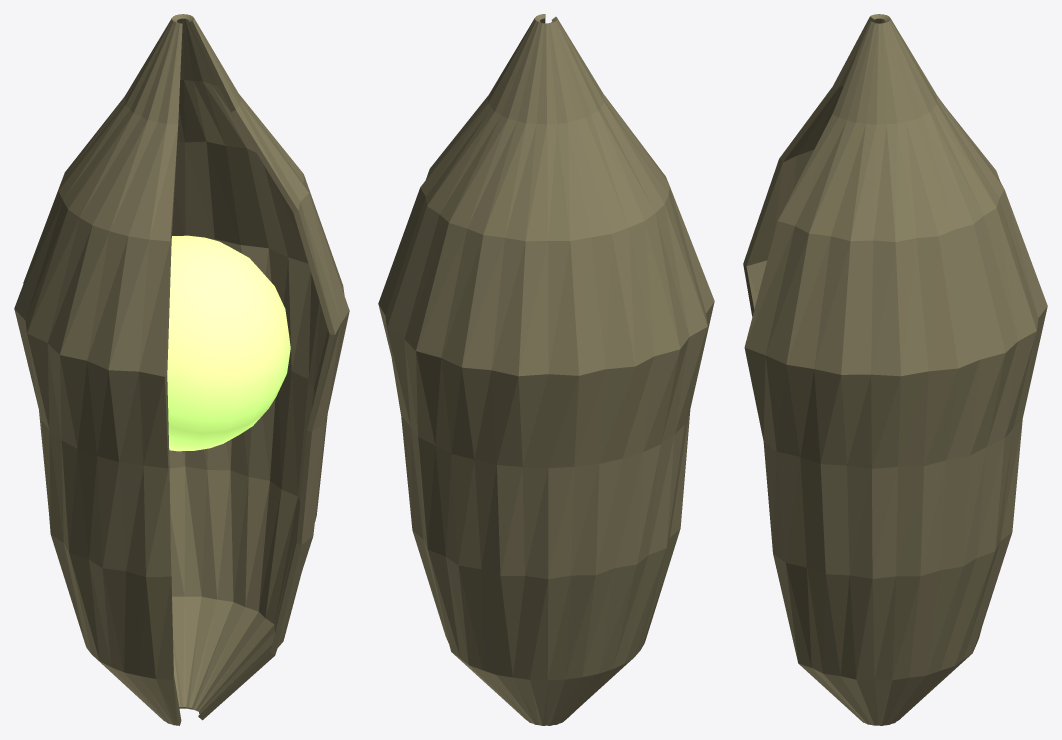
The model's file is sprite_guardian_refined.glb.
The picture shows the model from 3 angles, left to right: view 1: azimuth 30°, elevation 25°; view 2: azimuth 150°, elevation 25°; view 3: azimuth 270°, elevation 25°; orthographic projection.
Parts seen in each view (by area): view 1: Leaf_Envelope, Sprite_Core; view 2: Leaf_Envelope; view 3: Leaf_Envelope.
Boxes of the visible parts, x1,y1,x2,y2 form: Leaf_Envelope: [14, 14, 349, 725]; Sprite_Core: [167, 235, 290, 451]; Leaf_Envelope: [378, 14, 714, 725]; Leaf_Envelope: [743, 14, 1047, 725].
Size of the model in its own units: 0.8167 by 1.89 by 0.7456.
